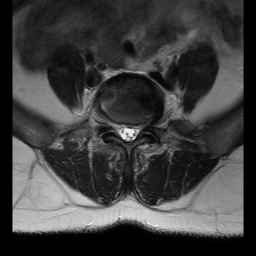CCS_normal: (124, 118, 132, 147)
LFS_stenosis: (140, 117, 147, 136)
LLS_normal: (132, 118, 139, 142)
RFS_stenosis: (108, 115, 116, 135)
RLS_normal: (117, 119, 124, 142)
